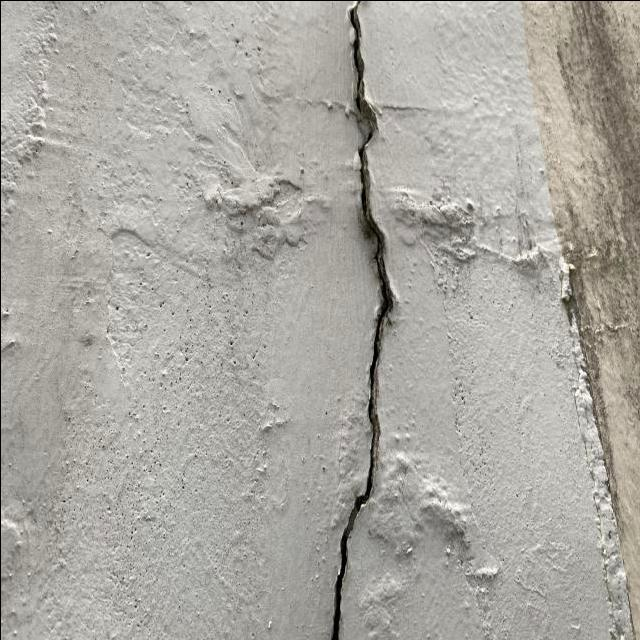SurfaceCrack: (279, 0, 434, 640), (533, 200, 639, 640)
